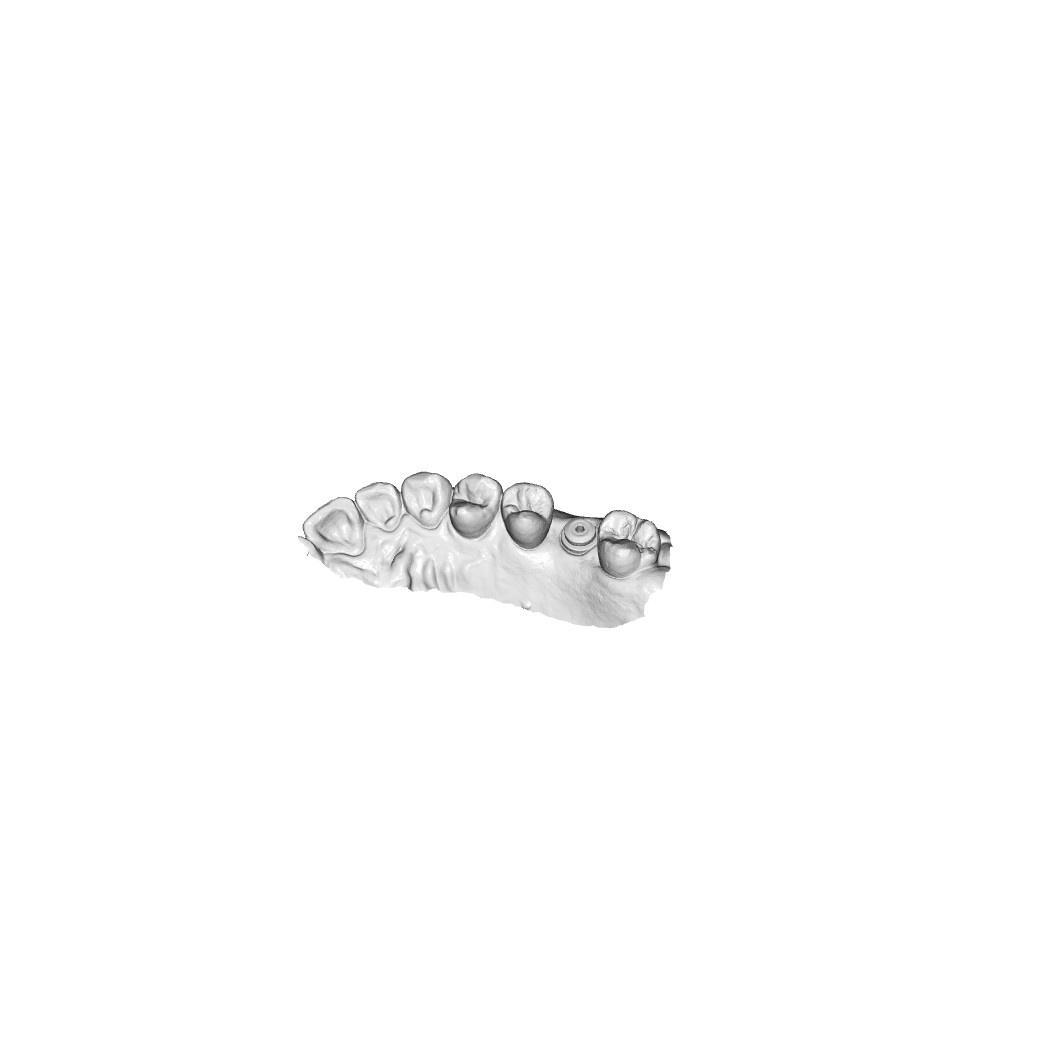canine: (401, 468, 452, 530)
implant: (558, 514, 598, 557)
incisor: (301, 495, 367, 556), (353, 478, 404, 532)
molar: (595, 508, 662, 579)
premolar: (499, 476, 555, 551), (447, 470, 503, 539)
